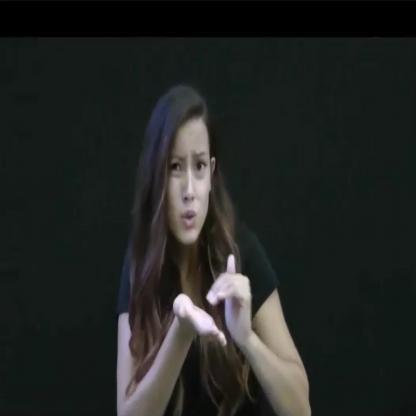ExcuseMe: (165, 248, 257, 356)
